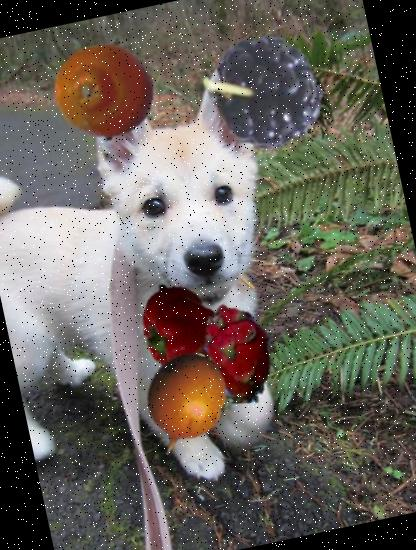Granadilla: (120, 341, 248, 468)
Mulberry: (199, 11, 361, 174)
Pepper: (128, 275, 236, 383)
Pitahaya: (178, 293, 300, 414)
Tangelo: (43, 32, 166, 154)
